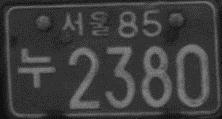0: (175, 43, 211, 108)
2: (67, 45, 100, 109)
3: (104, 45, 134, 108)
5: (141, 8, 162, 37)
8: (140, 44, 172, 108), (117, 9, 138, 38)
누: (16, 48, 55, 88)
서울_O: (60, 11, 112, 37)
